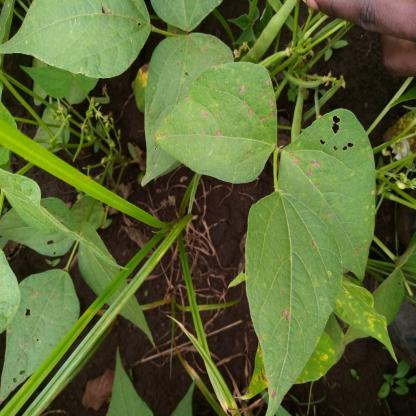Beans_Angular_LeafSpot: (282, 110, 374, 269), (248, 211, 318, 405), (158, 61, 278, 171), (142, 30, 216, 177), (6, 269, 79, 410)
